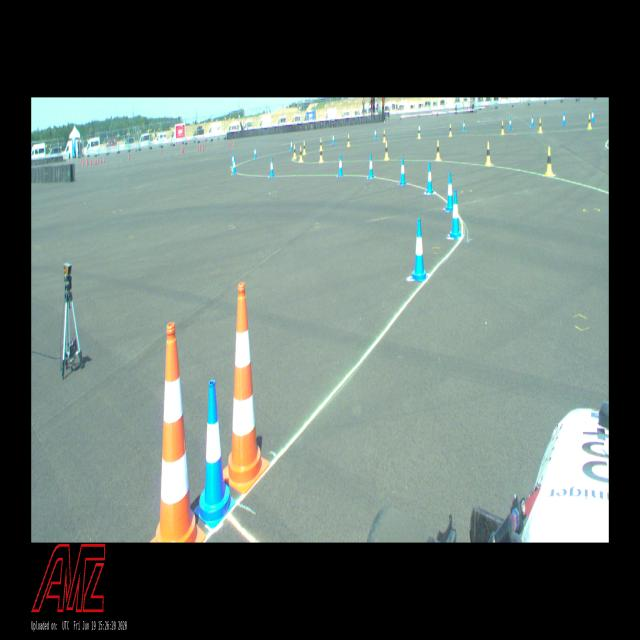blue_cone: (194, 379, 235, 531), (410, 218, 428, 281), (450, 191, 461, 238), (445, 172, 453, 211), (426, 163, 433, 193), (400, 157, 406, 185), (368, 154, 374, 179), (338, 155, 343, 177), (270, 158, 274, 177), (233, 158, 236, 174), (562, 113, 566, 125), (462, 120, 466, 132), (531, 115, 534, 128), (254, 146, 257, 158), (509, 117, 512, 129), (290, 140, 293, 151), (332, 134, 335, 144), (374, 129, 377, 139), (232, 153, 234, 167), (592, 110, 594, 122)
large_orange_cone: (150, 322, 206, 542), (222, 282, 270, 493)
yellow_cone: (546, 147, 553, 176), (486, 142, 492, 166), (384, 142, 389, 160), (436, 140, 440, 160), (538, 118, 542, 133), (299, 146, 303, 161), (588, 114, 592, 129), (319, 148, 323, 162), (501, 121, 504, 134), (383, 130, 386, 143), (347, 134, 350, 147), (449, 124, 452, 136), (319, 138, 322, 150), (303, 142, 306, 154), (294, 144, 296, 158), (418, 126, 420, 138)
